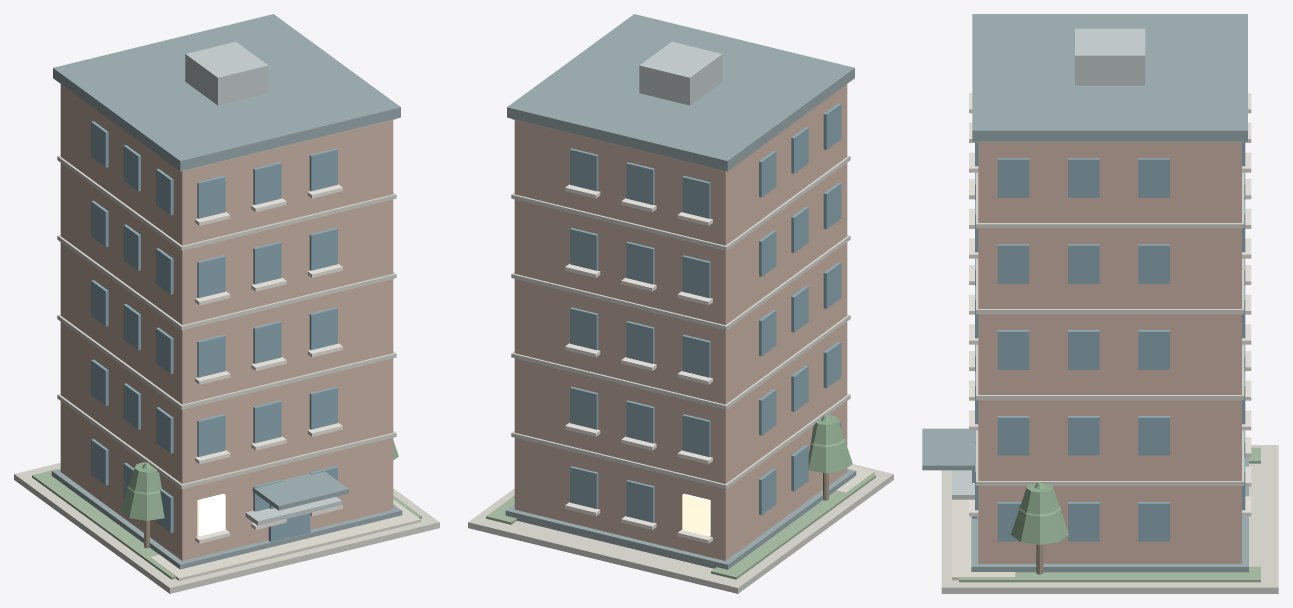
Rendered from remaster_office_5.glb.
The picture shows the model from 3 angles, left to right: view 1: azimuth 30°, elevation 25°; view 2: azimuth 150°, elevation 25°; view 3: azimuth 270°, elevation 25°; orthographic projection. The views are drawn at different scales.
Visible parts, largest first — view 1: remaster_office_5 brick, remaster_office_5 roof, remaster_office_5 glass, remaster_office_5 stone, remaster_office_5 metal, remaster_office_5 white, remaster_office_5 cream, remaster_office_5 green, remaster_office_5 leaf, remaster_office_5 warm; view 2: remaster_office_5 brick, remaster_office_5 roof, remaster_office_5 glass, remaster_office_5 stone, remaster_office_5 white, remaster_office_5 metal, remaster_office_5 green, remaster_office_5 leaf, remaster_office_5 warm; view 3: remaster_office_5 brick, remaster_office_5 roof, remaster_office_5 glass, remaster_office_5 stone, remaster_office_5 metal, remaster_office_5 white, remaster_office_5 green, remaster_office_5 leaf, remaster_office_5 cream.
Boxes of the visible parts, box(x1,y1,x2,y2) form: remaster_office_5 brick: box(60, 84, 393, 560); remaster_office_5 roof: box(51, 14, 402, 569); remaster_office_5 glass: box(91, 121, 337, 542); remaster_office_5 stone: box(14, 118, 439, 593); remaster_office_5 metal: box(185, 42, 342, 525); remaster_office_5 white: box(195, 184, 342, 543); remaster_office_5 cream: box(150, 499, 420, 580); remaster_office_5 green: box(32, 469, 421, 579); remaster_office_5 leaf: box(120, 440, 398, 520); remaster_office_5 warm: box(197, 493, 225, 536); remaster_office_5 brick: box(514, 84, 847, 560); remaster_office_5 roof: box(505, 14, 856, 569); remaster_office_5 glass: box(570, 103, 841, 522); remaster_office_5 stone: box(468, 118, 893, 593); remaster_office_5 white: box(565, 184, 712, 543); remaster_office_5 metal: box(639, 42, 722, 105); remaster_office_5 green: box(486, 474, 875, 579); remaster_office_5 leaf: box(808, 414, 852, 473); remaster_office_5 warm: box(682, 493, 710, 536); remaster_office_5 brick: box(978, 142, 1241, 563); remaster_office_5 roof: box(922, 14, 1248, 572); remaster_office_5 glass: box(972, 141, 1245, 541); remaster_office_5 stone: box(941, 141, 1278, 593); remaster_office_5 metal: box(952, 28, 1145, 499); remaster_office_5 white: box(969, 93, 1251, 516); remaster_office_5 green: box(959, 447, 1260, 582); remaster_office_5 leaf: box(1011, 482, 1068, 544); remaster_office_5 cream: box(952, 499, 1015, 580).
Bounding box in the file's own units: 9.64 × 15.1 × 10.15.
